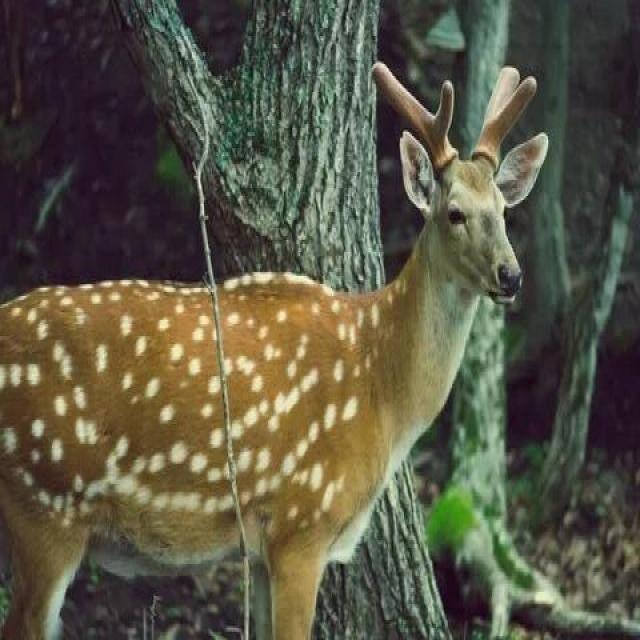deer: (0, 85, 529, 640)
